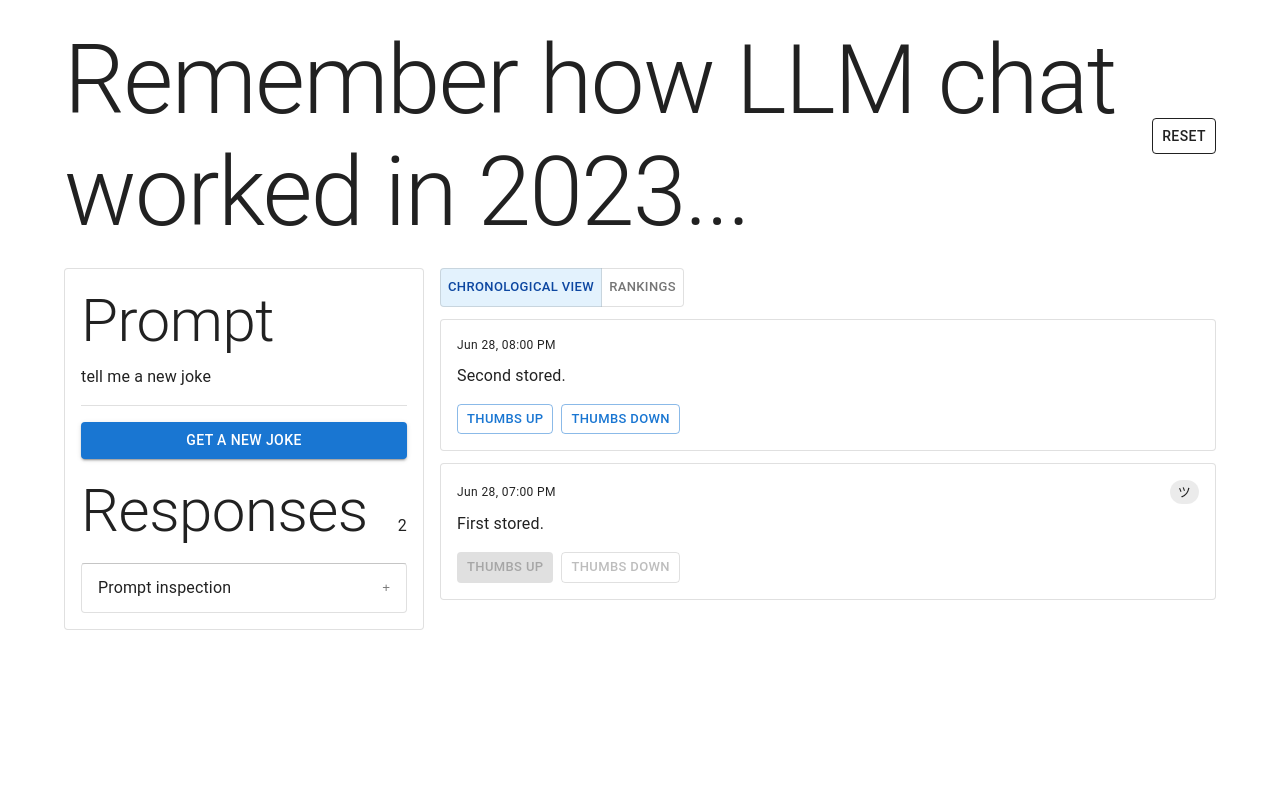
Test: Joker MVP › defaults to chronological view and toggles to preference view with priority ranks
This screenshot has width=1280, height=800.
Expected: the text "First stored." is shown, [457,514,544,534]
Expected: the text "Second stored." is shown, [457,366,566,385]
Click the button "Rankings": [643, 288] box [601,268,684,307]
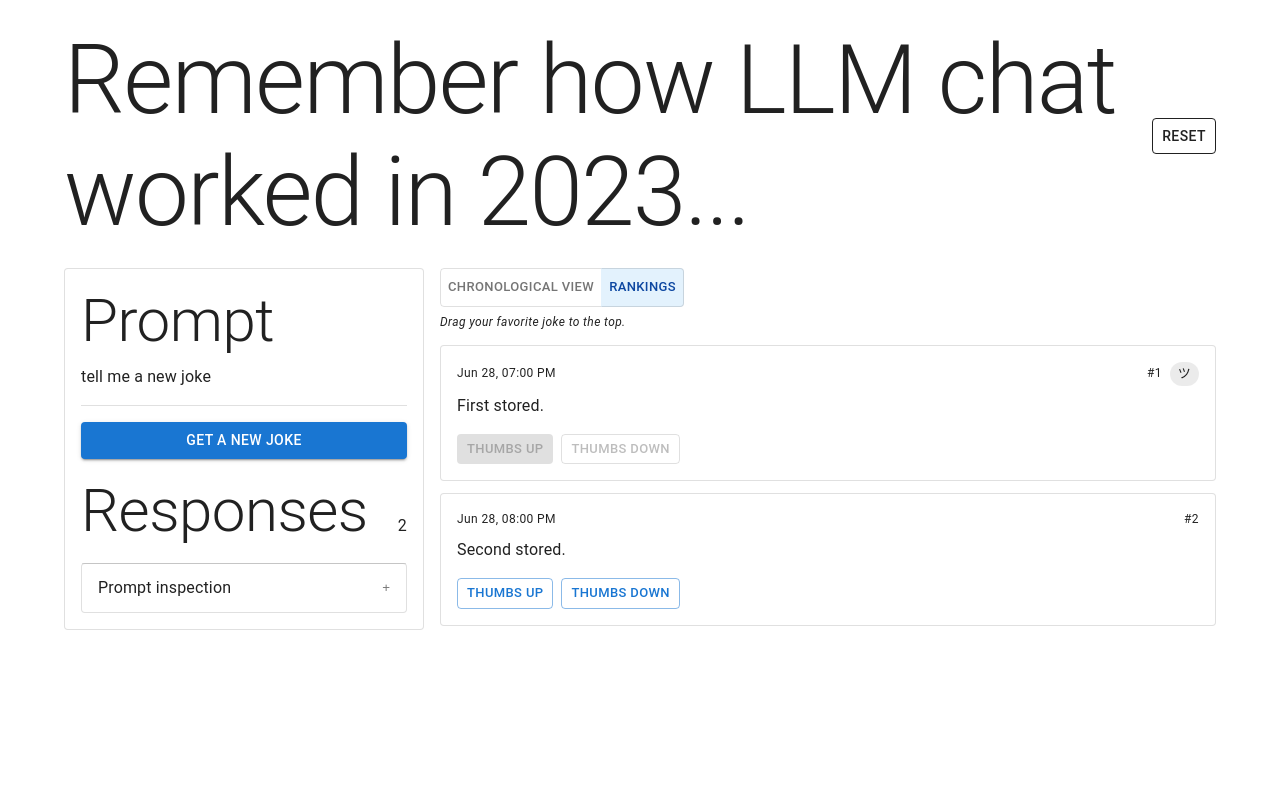
Now the text "#1" is shown, box [1147,364,1162,384]
Now the text "#2" is shown, box [1184,510,1199,530]
